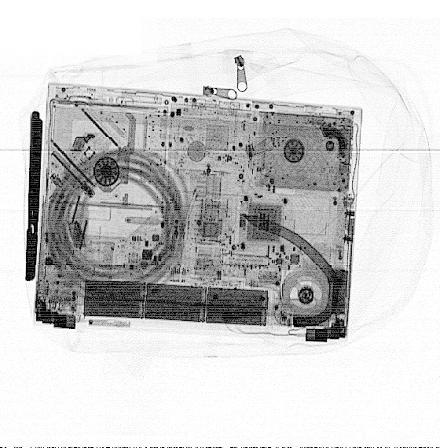Pliers: (23, 109, 45, 285)
